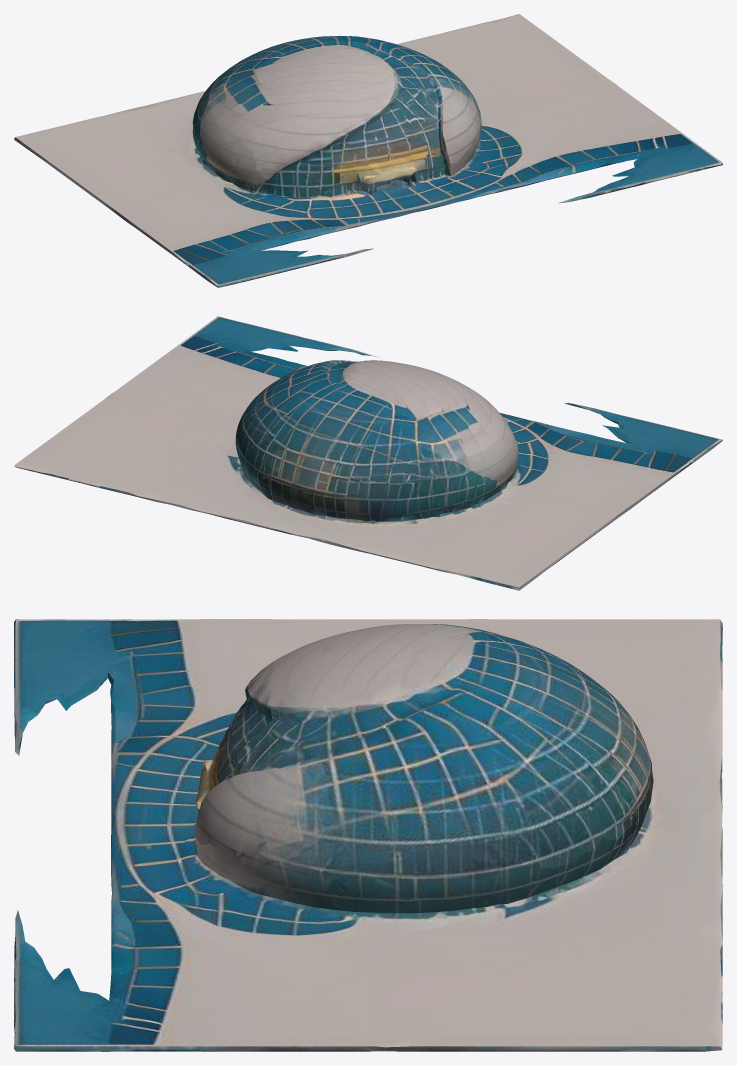
The model's file is national-centre-performing-arts-beijing.glb.
3 renders of one model, top to bottom at view 1: azimuth 30°, elevation 25°; view 2: azimuth 150°, elevation 25°; view 3: azimuth 270°, elevation 25°, orthographic. The views are drawn at different scales.
Parts seen in each view (by area): view 1: logan-textured.obj; view 2: logan-textured.obj; view 3: logan-textured.obj.
Boxes of the visible parts, x1,y1,x2,y2 form: logan-textured.obj: (14,14,722,287); logan-textured.obj: (14,316,722,590); logan-textured.obj: (14,619,722,1051).
Size of the model in its own units: 1 by 0.1733 by 0.699.
Materials: 1 (1 with a texture image).
